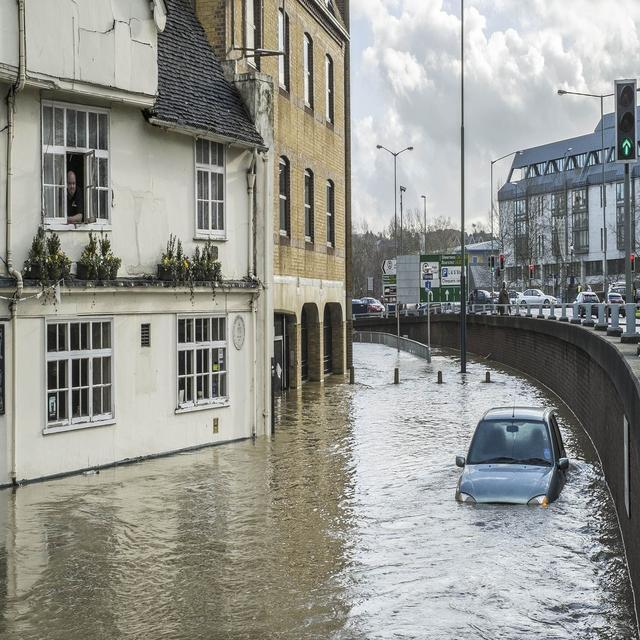Car-RiskLevel3: (446, 398, 575, 518)
